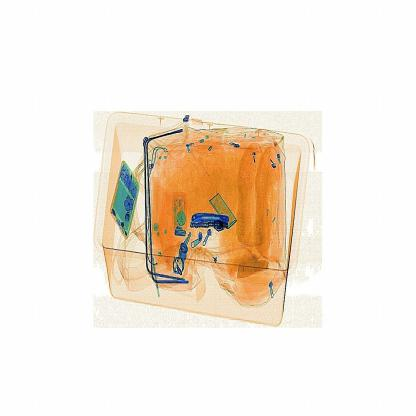knife: (190, 209, 239, 228)
